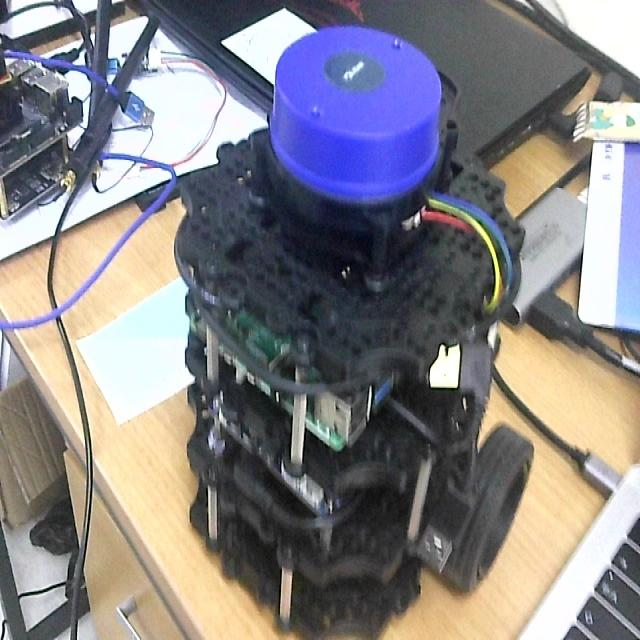turtle: (171, 18, 536, 640)
